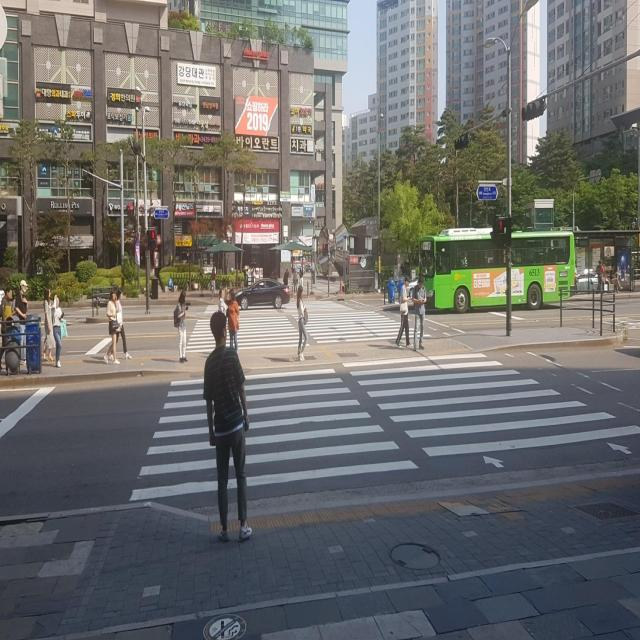빨간불: (496, 216, 506, 247), (148, 228, 157, 252)
횡단보도: (128, 307, 640, 502)
